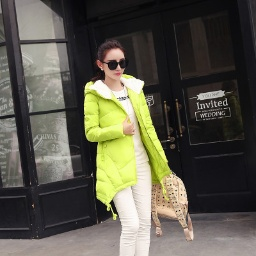face: (86, 30, 135, 85)
